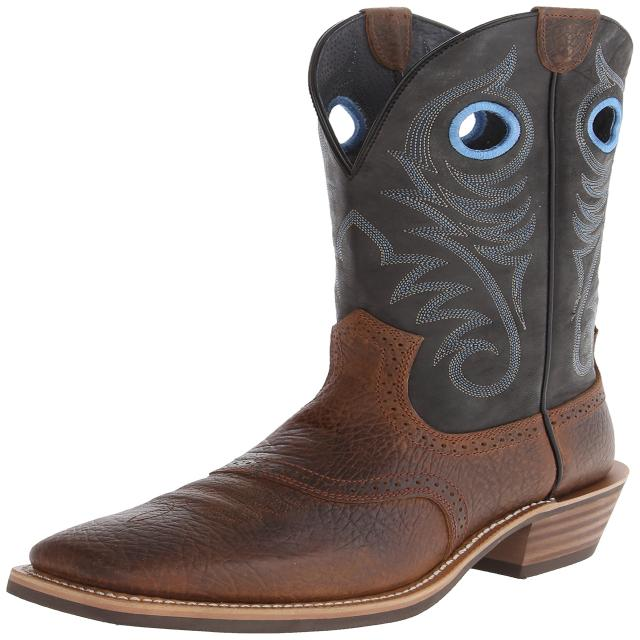boot: (12, 4, 638, 634)
